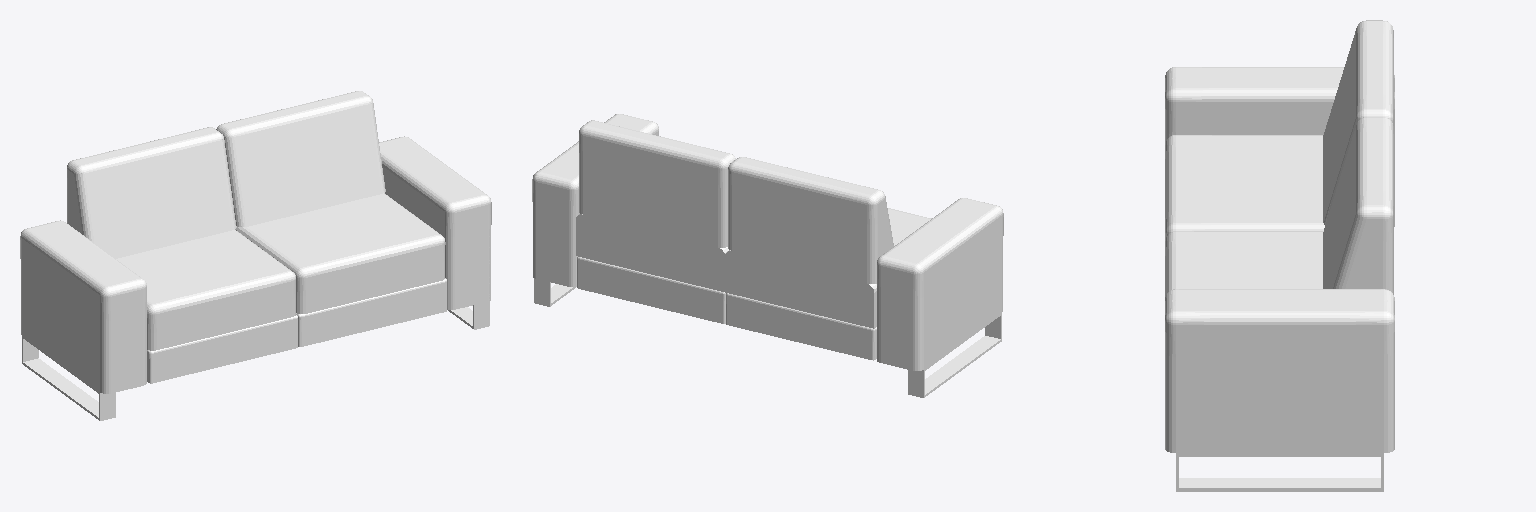
The robot description file, URDF, robot "sofa_couch":
<robot
  name="sofa_couch">
  <link
    name="sofa_couch">
    <inertial>
      <origin
        xyz="-3.0047E-09 0.35044 0.33527"
        rpy="0 0 0" />
      <mass
        value="447.13" />
      <inertia
        ixx="27.1705941087781"
        ixy="-2.40779756688347E-07"
        ixz="-5.44653349532354E-07"
        iyy="121.778927713019"
        iyz="-4.40420419617866"
        izz="128.574430925705" />
    </inertial>
    <visual>
      <origin
        xyz="0 0 0"
        rpy="0 0 0" />
      <geometry>
        <mesh
          filename="package://sofa_couch/meshes/sofa_couch.dae" />
      </geometry>
      <material
        name="">
        <color
          rgba="1 1 1 1" />
      </material>
    </visual>
    <collision>
      <origin
        xyz="0 0 0"
        rpy="0 0 0" />
      <geometry>
        <mesh
          filename="package://sofa_couch/meshes/sofa_couch.dae" />
      </geometry>
    </collision>
  </link>
</robot>

--- Render facts (derived) ---
Views: 3 orthographic renders of the robot side by side, from view 1: azimuth 30°, elevation 25°; view 2: azimuth 150°, elevation 25°; view 3: azimuth 270°, elevation 25°.
Robot: sofa_couch — 1 links, 0 joints (none); root link sofa_couch; default pose: all joints at 0.
Visible links, largest first — view 1: sofa_couch; view 2: sofa_couch; view 3: sofa_couch.
Link boxes in pixels (box(x1,y1,x2,y2)): sofa_couch: box(20, 91, 491, 420); sofa_couch: box(532, 114, 1003, 397); sofa_couch: box(1165, 20, 1394, 491).
Bounding box of the posed robot: 1.7 × 0.6544 × 0.7923 m (x, y, z).
Meshes: 1 distinct files referenced, 1 mesh visuals loaded (1 Collada DAE).